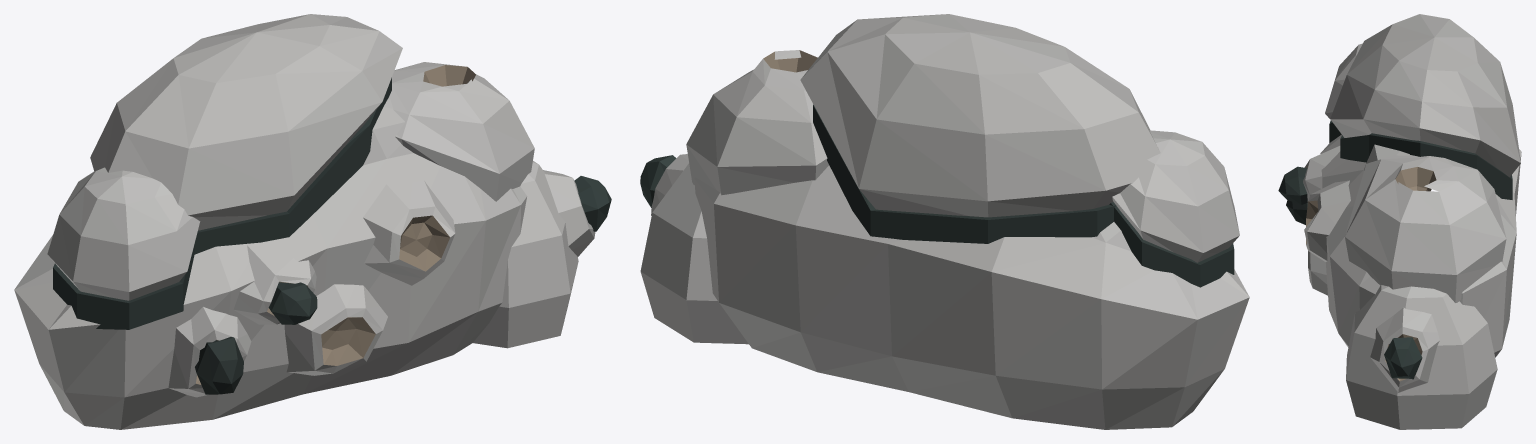
Rendered from harvestable-flint-seam-a43ff4.glb.
The picture shows the model from 3 angles, left to right: view 1: azimuth 30°, elevation 25°; view 2: azimuth 150°, elevation 25°; view 3: azimuth 270°, elevation 25°; orthographic projection. The views are drawn at different scales.
Parts seen in each view (by area): view 1: outcrop, nodule-1-mesh, nodule-3-mesh, nodule-5-mesh; view 2: outcrop, nodule-5-mesh; view 3: outcrop, nodule-5-mesh, nodule-3-mesh, nodule-1-mesh.
Boxes of the visible parts, left/top/right/bottom form: outcrop: left=14, top=14, right=595, bottom=429; nodule-1-mesh: left=195, top=337, right=243, bottom=394; nodule-3-mesh: left=268, top=282, right=317, bottom=324; nodule-5-mesh: left=574, top=176, right=611, bottom=231; outcrop: left=640, top=14, right=1249, bottom=429; nodule-5-mesh: left=640, top=155, right=676, bottom=207; outcrop: left=1303, top=14, right=1521, bottom=429; nodule-5-mesh: left=1384, top=337, right=1422, bottom=379; nodule-3-mesh: left=1278, top=166, right=1307, bottom=204; nodule-1-mesh: left=1286, top=200, right=1307, bottom=224.
Size of the model in its own units: 1.51 by 0.8336 by 0.6678.
